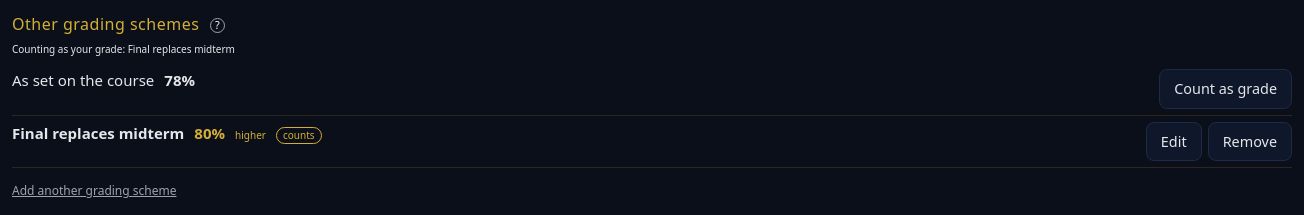
Test: GradingSchemes › puts the course's own weights back from the first row
Expected: the text "Counting as your grade: Final replaces midterm" is shown, x1=12 y1=42 x2=235 y2=56
Click the button "Count as grade": {"x": 1226, "y": 89} x1=1159 y1=69 x2=1292 y2=109
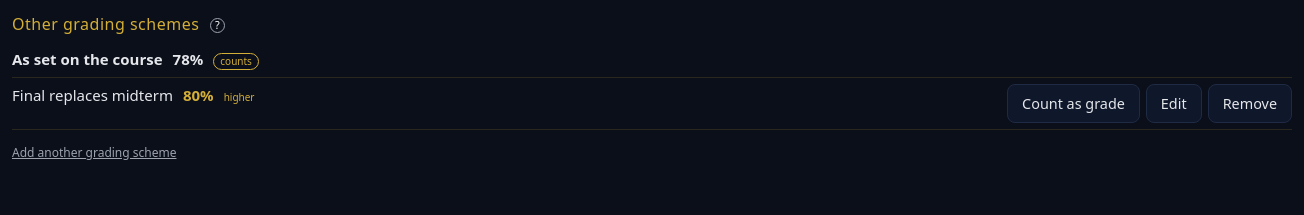
Result: the text "Counting as your grade" is gone
